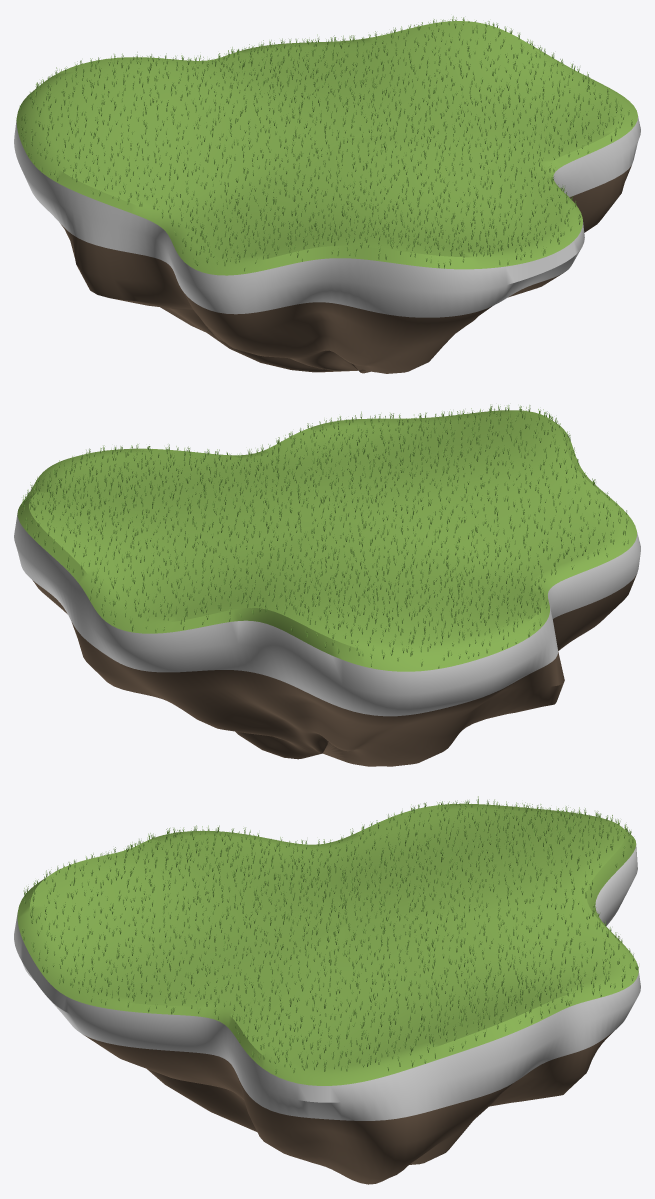
File: island_starter.fbx
3 views of the same model, one above another, from view 1: azimuth 30°, elevation 25°; view 2: azimuth 150°, elevation 25°; view 3: azimuth 270°, elevation 25° (orthographic). The views are drawn at different scales.
Visible parts, largest first — view 1: FH_Island_Start, FH_GrassTufts; view 2: FH_Island_Start, FH_GrassTufts; view 3: FH_Island_Start, FH_GrassTufts.
Boxes of the visible parts, x1=… form: FH_Island_Start: x1=14, y1=21, x2=640, y2=373; FH_GrassTufts: x1=16, y1=16, x2=632, y2=271; FH_Island_Start: x1=14, y1=410, x2=640, y2=766; FH_GrassTufts: x1=21, y1=404, x2=628, y2=668; FH_Island_Start: x1=14, y1=803, x2=640, y2=1184; FH_GrassTufts: x1=22, y1=796, x2=638, y2=1074.
Bounding box in the file's own units: 29.68 × 13.67 × 28.94.
